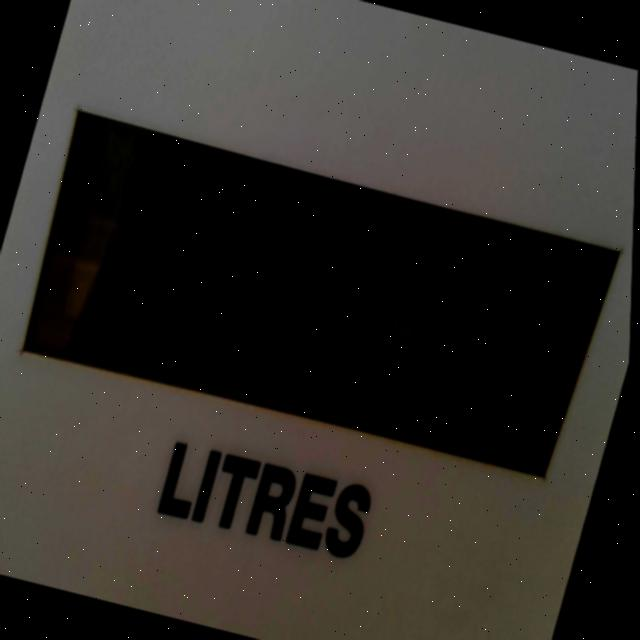.: (339, 367, 376, 423)
0: (356, 223, 485, 458), (442, 239, 568, 456)
2: (106, 158, 243, 376)
4: (204, 190, 326, 398)
6: (278, 206, 406, 422)
